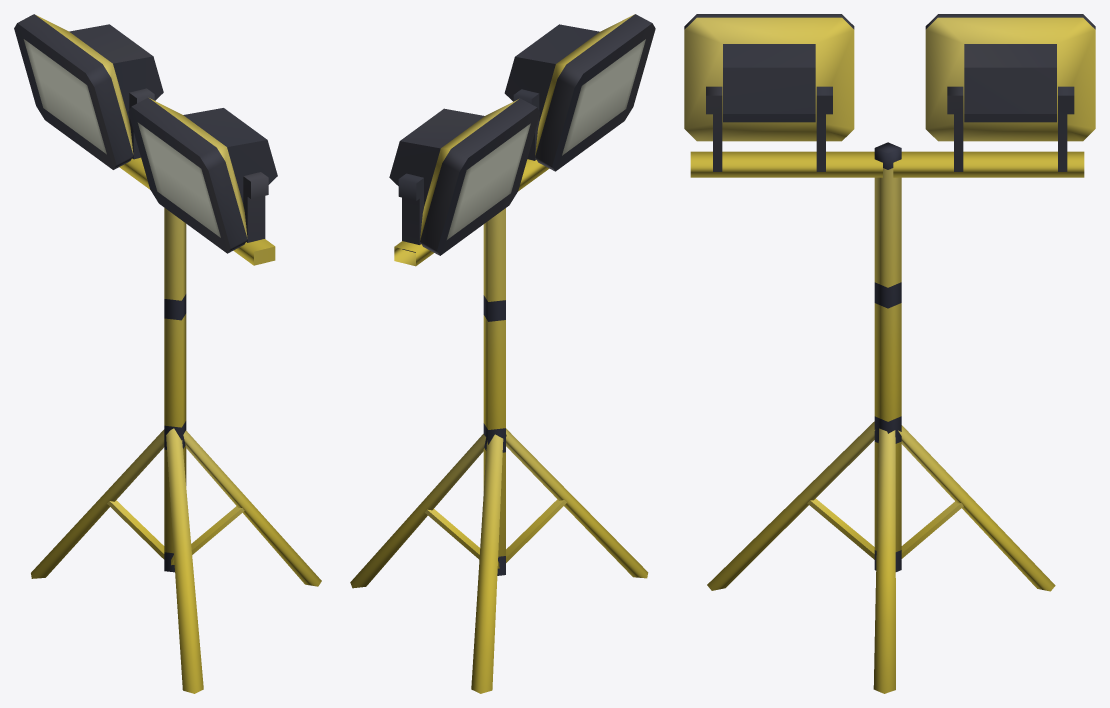
File: WorkLight_Big.fbx
3 views of the same model, side by side, from view 1: azimuth 30°, elevation 25°; view 2: azimuth 150°, elevation 25°; view 3: azimuth 270°, elevation 25° (orthographic). The views are drawn at different scales.
Parts seen in each view (by area): view 1: WorkLight_Big, WorkLight_Big_Holder, WorkLight_Big_Lights; view 2: WorkLight_Big_Holder, WorkLight_Big, WorkLight_Big_Lights; view 3: WorkLight_Big_Holder, WorkLight_Big.
Part boxes in pixels (x1,y1,x2,y2): WorkLight_Big: [31, 88, 321, 693]; WorkLight_Big_Holder: [14, 14, 277, 253]; WorkLight_Big_Lights: [23, 39, 220, 237]; WorkLight_Big_Holder: [389, 14, 655, 255]; WorkLight_Big: [350, 89, 648, 693]; WorkLight_Big_Lights: [447, 39, 645, 239]; WorkLight_Big_Holder: [684, 14, 1095, 141]; WorkLight_Big: [690, 86, 1084, 693].
Bounding box in the file's own units: 121 × 291 × 188.
